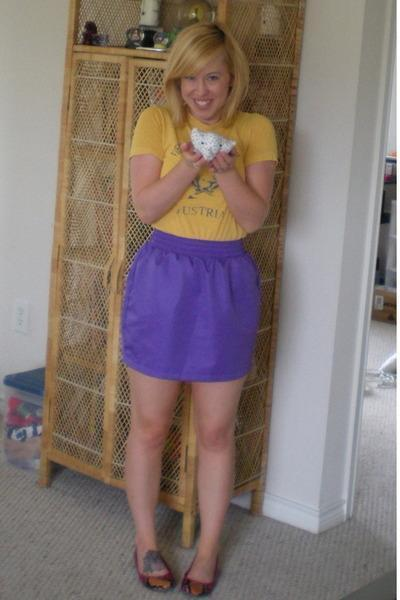shirt: (125, 108, 277, 240)
shoe: (138, 556, 215, 599)
skirt: (120, 229, 261, 382)
